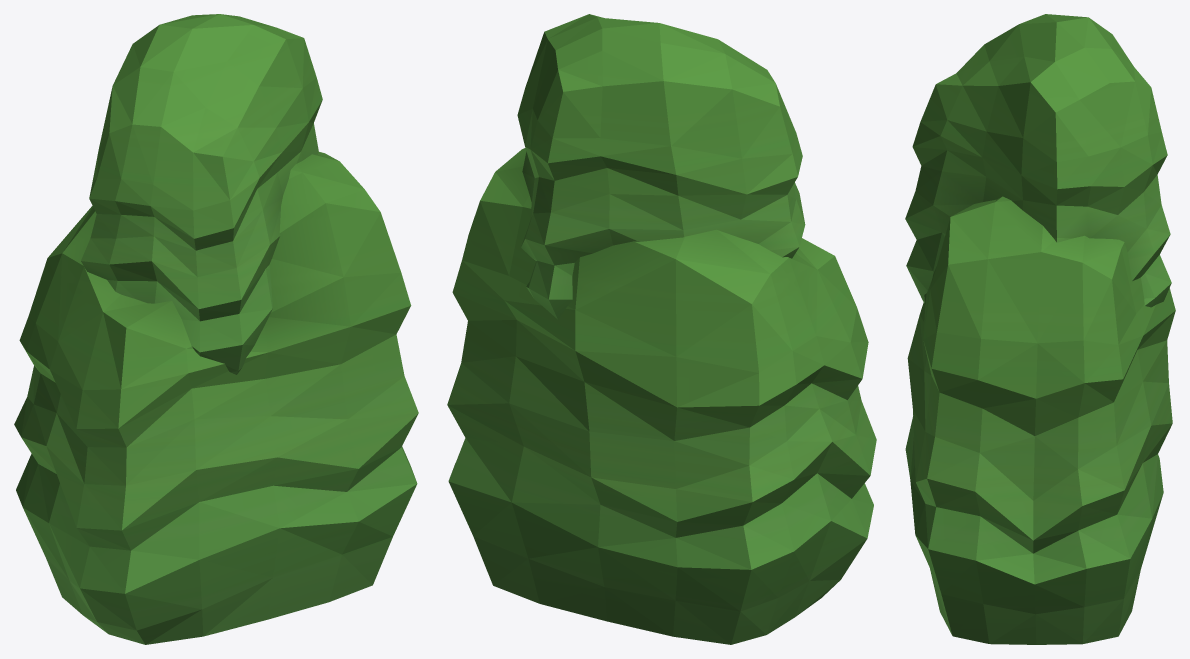
File: bush_tall.glb
3 renders of one model, left to right at view 1: azimuth 30°, elevation 25°; view 2: azimuth 150°, elevation 25°; view 3: azimuth 270°, elevation 25°, orthographic. The views are drawn at different scales.
Parts seen in each view (by area): view 1: Bush_1_1_A; view 2: Bush_1_1_A; view 3: Bush_1_1_A.
Boxes of the visible parts, x1,y1,x2,y2 form: Bush_1_1_A: [14, 14, 418, 644]; Bush_1_1_A: [447, 14, 876, 644]; Bush_1_1_A: [905, 14, 1175, 644].
Size of the model in its own units: 0.786 by 1.2 by 0.534.
Materials: 1 (1 with a texture image).
